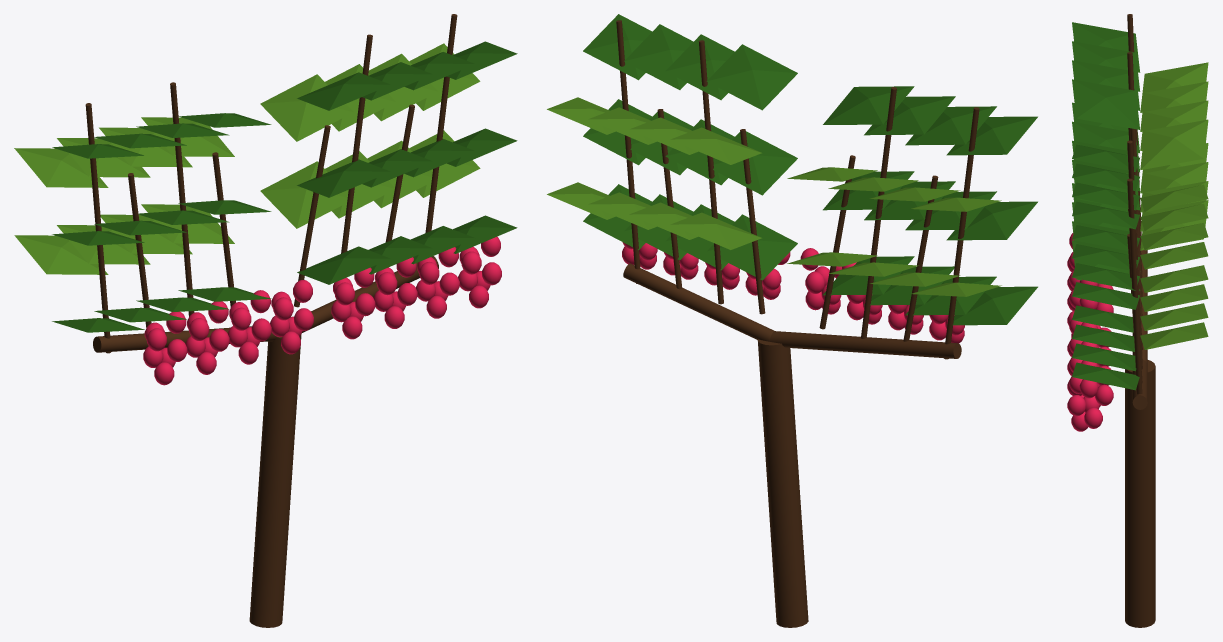
The model's file is Szolotoke.obj.
3 views of the same model, side by side, from view 1: azimuth 30°, elevation 25°; view 2: azimuth 150°, elevation 25°; view 3: azimuth 270°, elevation 25° (orthographic). The views are drawn at different scales.
Size of the model in its own units: 1.36 by 1.69 by 0.413.
